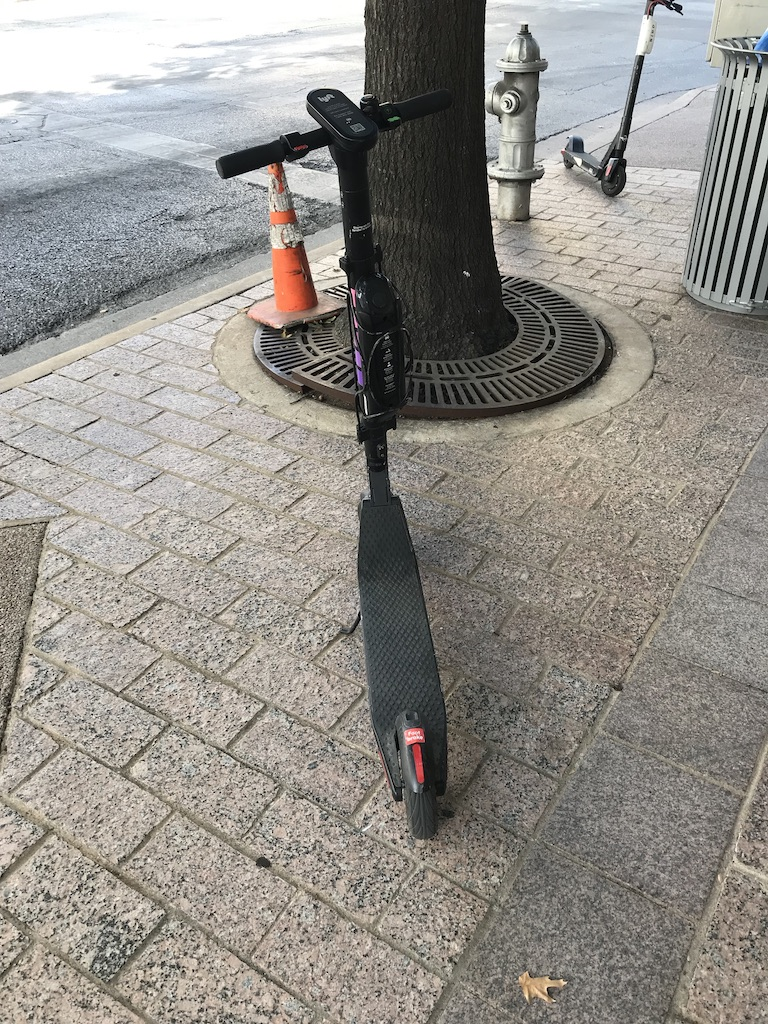scooter: (214, 86, 454, 842), (561, 1, 684, 198)
